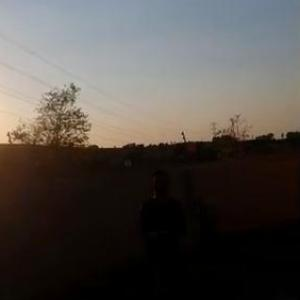follow: (131, 166, 188, 299)
